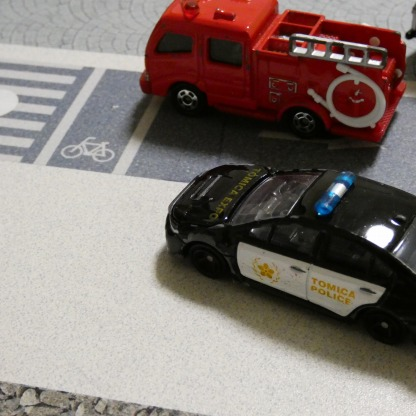car: (166, 162, 416, 348), (137, 0, 406, 147)
